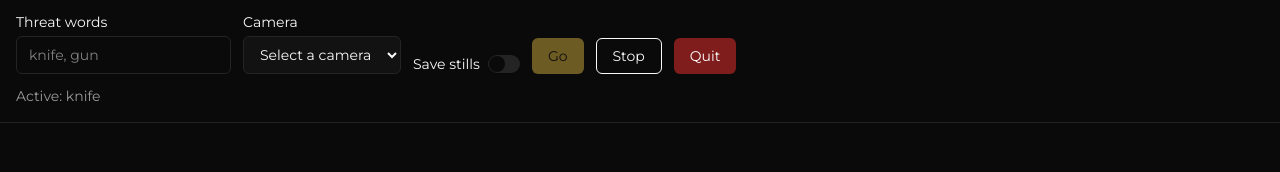
Test: test_stop_shows_error_on_rejection › shows the error and does not clear the active session when Stop fails
Step 1. Click the button "Stop" → (629, 56), box [596,38,662,74]
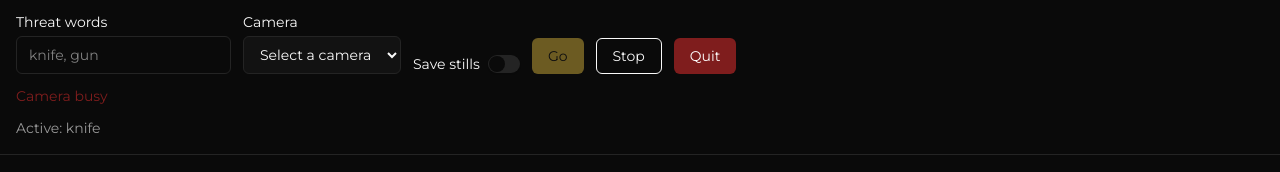
Now the text "Camera busy" is shown, box [16,87,108,105]
